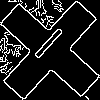I: (25, 25, 66, 69)
